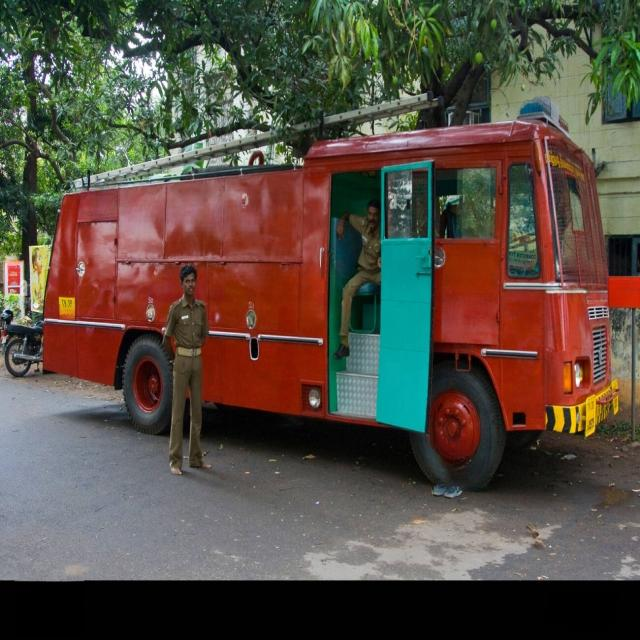emergency: (44, 114, 620, 490)
